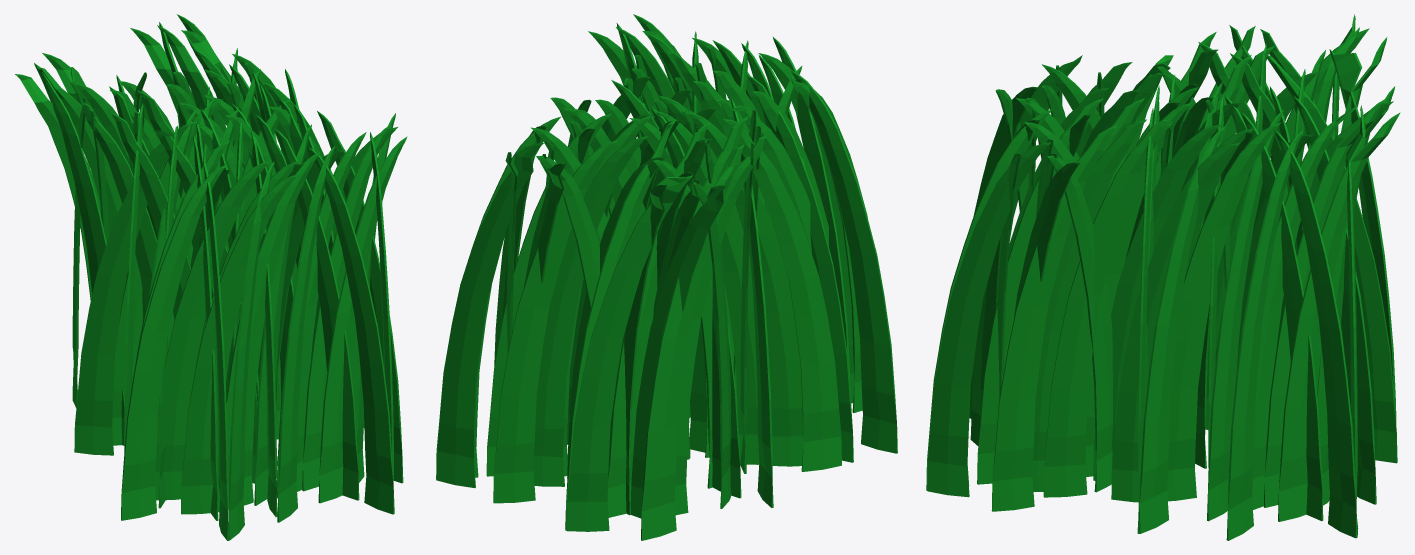
The model's file is AB_Grass.FBX.
The picture shows the model from 3 angles, left to right: view 1: azimuth 30°, elevation 25°; view 2: azimuth 150°, elevation 25°; view 3: azimuth 270°, elevation 25°; orthographic projection. The views are drawn at different scales.
Visible parts, largest first — view 1: Plane; view 2: Plane; view 3: Plane.
Boxes of the visible parts, bbox=[...] form: Plane: bbox=[15, 14, 407, 540]; Plane: bbox=[436, 14, 897, 540]; Plane: bbox=[926, 14, 1400, 540].
Bounding box in the file's own units: 1.76 × 1.94 × 2.16.
